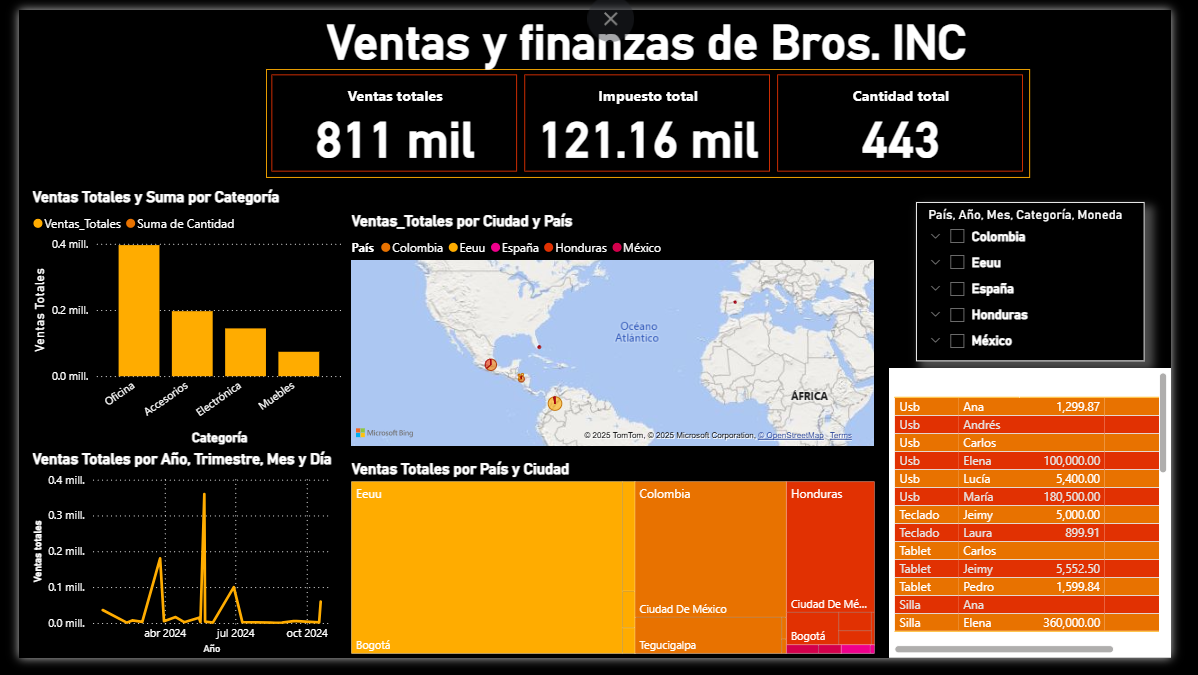

What the dashboard file says about the page in this screenshot:
{"tool":"powerbi","page":{"name":"Página 2","canvas":[1280,720],"ordinal":1},"visuals":[{"type":"columnChart","title":"Ventas Totales y Suma por Categoría","fields":{"Category":["Ventas.Categoría"],"Y":["Ventas.Ventas_Totales","Sum(Ventas.Cantidad)"]},"box":[966.7,69.4,313.7,328.6],"z":0},{"type":"lineChart","title":"Ventas Totales por Año, Trimestre, Mes y Día","fields":{"Category":["Ventas.Fecha_Venta.Variación.Jerarquía de fechas.Año","Ventas.Fecha_Venta.Variación.Jerarquía de fechas.Trimestre","Ventas.Fecha_Venta.Variación.Jerarquía de fechas.Mes","Ventas.Fecha_Venta.Variación.Jerarquía de fechas.Día"],"Y":["Ventas.Ventas_Totales"]},"box":[364.9,98.2,578.3,173.9],"z":1000},{"type":"map","fields":{"Series":["Ventas.País"],"Size":["Ventas.Ventas_Totales"],"Category":["Ventas.Ciudad"]},"box":[364.9,272.1,591.1,265.7],"z":2000},{"type":"treemap","title":"Ventas Totales por País y Ciudad","fields":{"Group":["Ventas.País"],"Details":["Ventas.Ciudad"],"Values":["Ventas.Ventas_Totales"]},"box":[364.9,537.8,591.1,182.5],"z":3000},{"type":"tableEx","fields":{"Values":["Ventas.Producto","Ventas.Vendedor","Sum(Ventas.Total)","Sum(Ventas.Impuesto)"]},"box":[966.2,397.9,313.8,322.1],"z":4000},{"type":"slicer","fields":{"Values":["Ventas.País","Ventas.Fecha_Venta.Variación.Jerarquía de fechas.Año","Ventas.Fecha_Venta.Variación.Jerarquía de fechas.Mes","Ventas.Categoría","Ventas.Moneda"]},"box":[37.3,503.6,283.8,176.1],"z":5000},{"type":"textbox","box":[336.3,0,728.4,79.3],"z":6000},{"type":"card","fields":{"Values":["Ventas.Ventas_Totales"]},"box":[37.3,351,283.8,135.5],"z":7000},{"type":"card","fields":{"Values":["Ventas.Impuesto_Total"]},"box":[37.3,204.9,283.8,135.5],"z":8000},{"type":"card","fields":{"Values":["Ventas.Cantidad_Total"]},"box":[37.3,58.7,283.8,135.5],"z":9000}]}

Visuals, with their boxes in screenshot pixels (x1, y1, x2, y2), scaled from the page's 1280x720 canvas onto the 1198x675 screenshot:
"Ventas Totales y Suma por Categoría" columnChart: (x1=905, y1=65, x2=1197, y2=373)
"Ventas Totales por Año, Trimestre, Mes y Día" lineChart: (x1=342, y1=92, x2=883, y2=255)
map - Ventas.País x Ventas.Ventas_Totales: (x1=342, y1=255, x2=895, y2=504)
"Ventas Totales por País y Ciudad" treemap: (x1=342, y1=504, x2=895, y2=674)
tableEx - Ventas.Producto x Ventas.Vendedor: (x1=904, y1=373, x2=1197, y2=674)
slicer - Ventas.País x Ventas.Fecha_Venta.Variación.Jerarquía de fechas.Año: (x1=35, y1=472, x2=301, y2=637)
textbox: (x1=315, y1=0, x2=996, y2=74)
card - Ventas.Ventas_Totales: (x1=35, y1=329, x2=301, y2=456)
card - Ventas.Impuesto_Total: (x1=35, y1=192, x2=301, y2=319)
card - Ventas.Cantidad_Total: (x1=35, y1=55, x2=301, y2=182)
